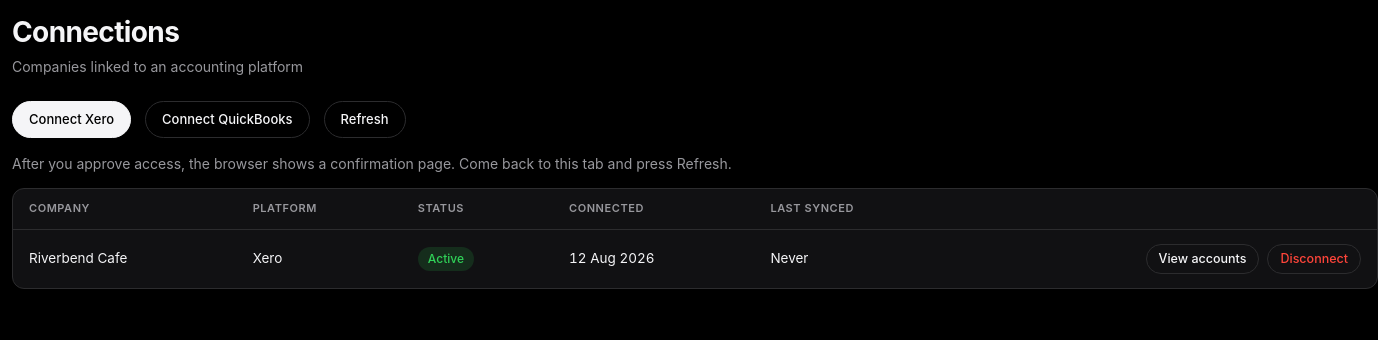
disconnect › asks first, then removes the company and reloads the list
What coordinates should you click on to do the following:
click the button "Disconnect"
I would click on:
 (1314, 259)
Its box is [1268,244,1361,274].
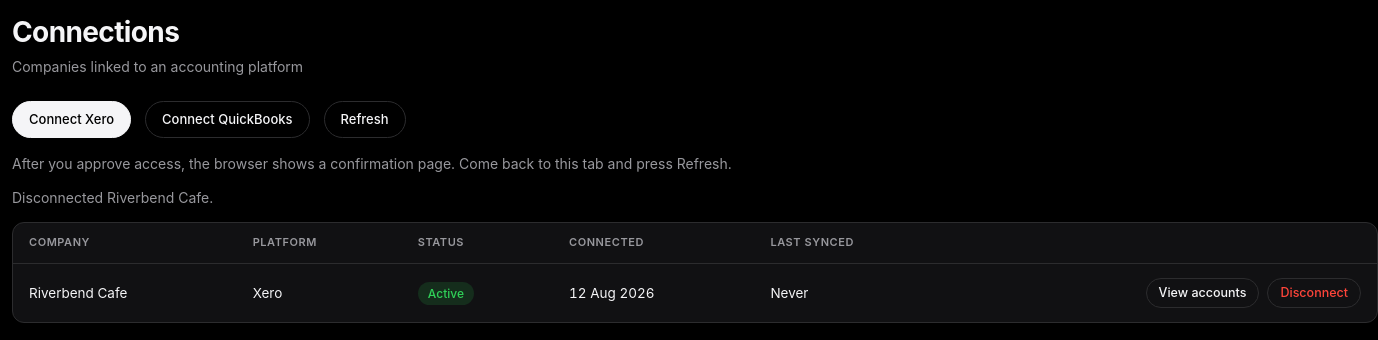
Now the text "Disconnected Riverbend Cafe." is shown, box [12,189,213,206]
